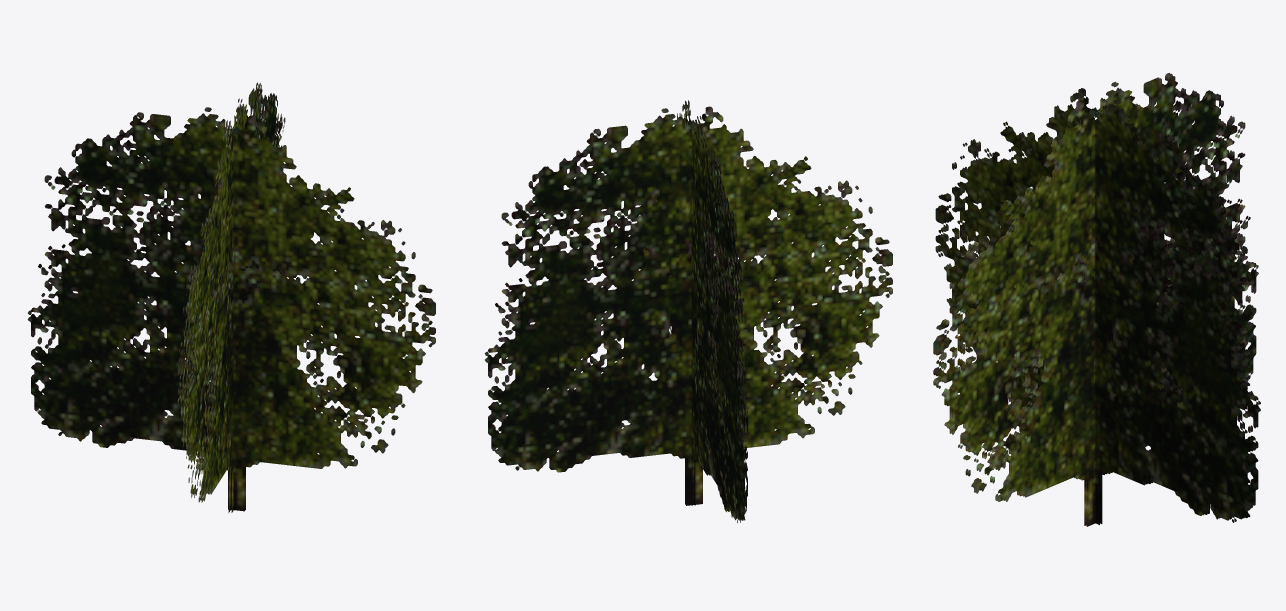
Rendered from tree117.fbx.
The picture shows the model from 3 angles, left to right: view 1: azimuth 30°, elevation 25°; view 2: azimuth 150°, elevation 25°; view 3: azimuth 270°, elevation 25°; orthographic projection. The views are drawn at different scales.
Visible parts, largest first — view 1: tree117; view 2: tree117; view 3: tree117.
Part boxes in pixels (bbox=[...]): tree117: bbox=[27, 82, 435, 512]; tree117: bbox=[484, 100, 892, 522]; tree117: bbox=[933, 73, 1260, 526].
Bounding box in the file's own units: 285 × 400 × 279.
1 material, 1 textured.
